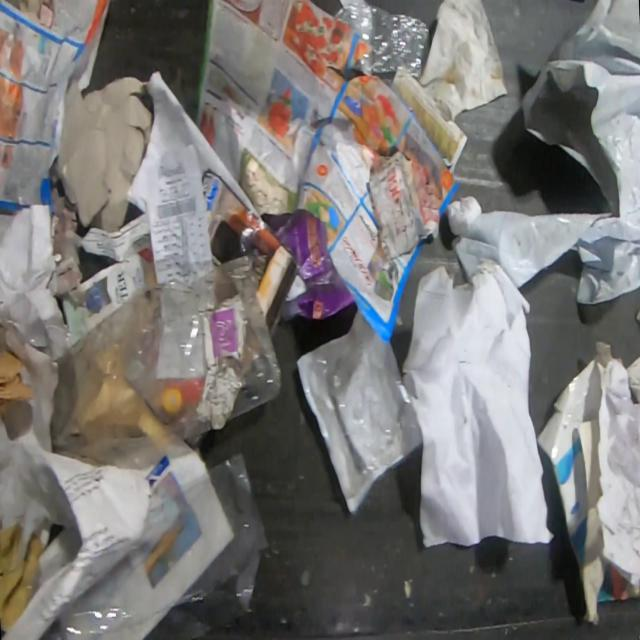cardboard: (536, 339, 639, 627), (49, 75, 153, 234), (0, 523, 45, 632), (0, 349, 36, 416)
rigid_plastic: (332, 0, 432, 81)
soft_plastic: (449, 0, 640, 306), (49, 252, 284, 473), (41, 448, 271, 639), (294, 309, 423, 517)
